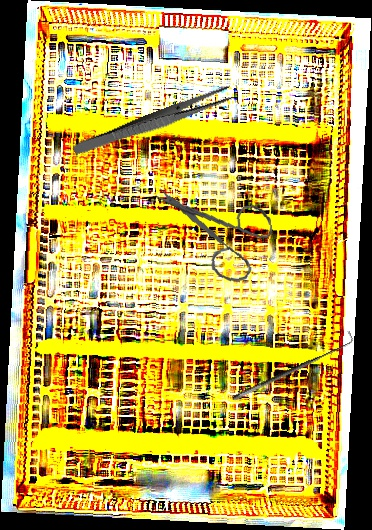Dressing Forceps: (71, 83, 236, 161)
Hook Surgical: (227, 330, 357, 403)
Iris Scissors: (154, 174, 278, 291)
